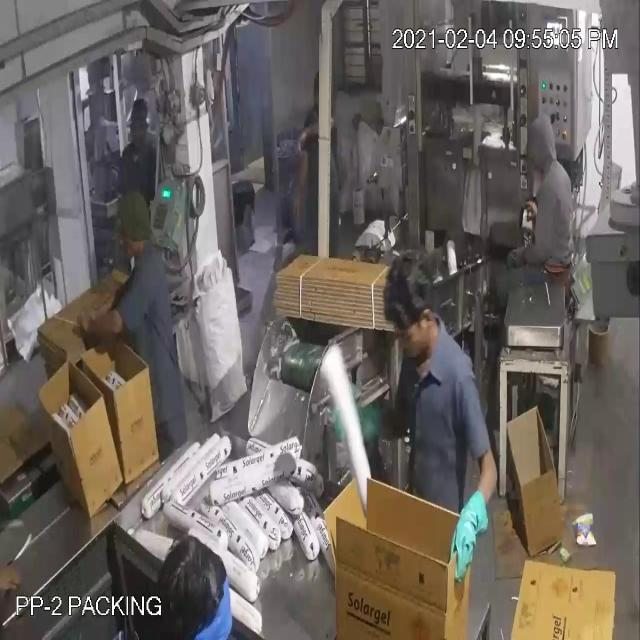gloves: (438, 492, 494, 592)
no-gloves: (59, 282, 140, 352), (288, 137, 314, 231)
